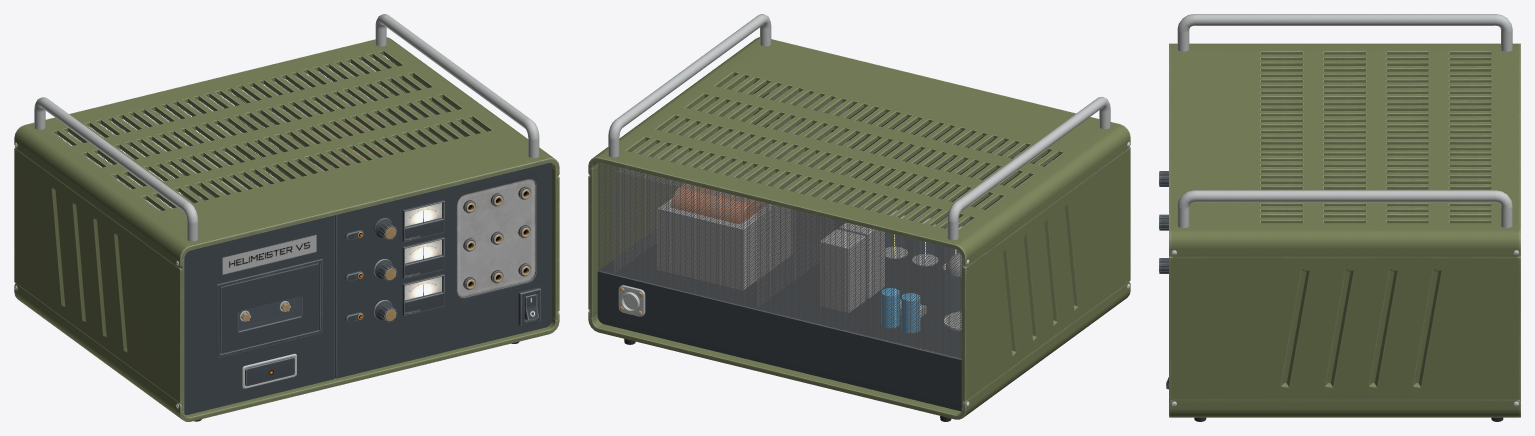
Rendered from SM_TapePlayer.fbx.
3 renders of one model, left to right at view 1: azimuth 30°, elevation 25°; view 2: azimuth 150°, elevation 25°; view 3: azimuth 270°, elevation 25°, orthographic. The views are drawn at different scales.
Parts seen in each view (by area): view 1: TapePlayerBody, CassetteDoor, EjectButton, Components; view 2: TapePlayerBody, Components; view 3: TapePlayerBody.
Boxes of the visible parts, x1,y1,x2,y2 form: TapePlayerBody: (14,14,559,421); CassetteDoor: (220,263,319,353); EjectButton: (245,357,294,386); Components: (182,117,400,203); TapePlayerBody: (588,14,1130,421); Components: (657,184,961,333); TapePlayerBody: (1166,14,1520,421).
Bounding box in the file's own units: 78.58 × 43.63 × 60.9.
